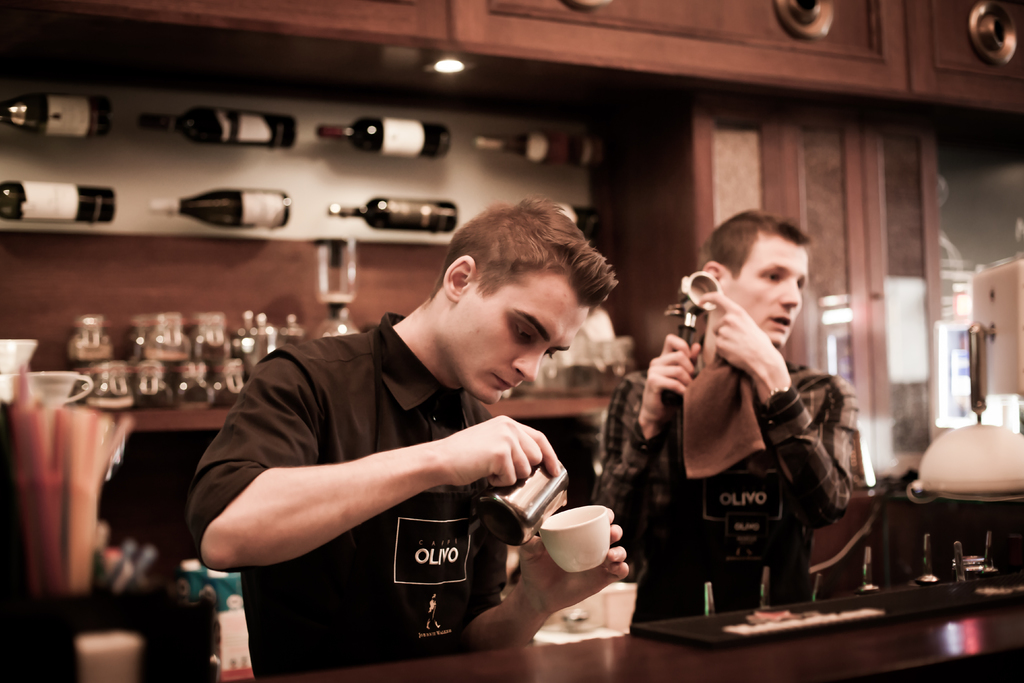face: (457, 272, 591, 396)
